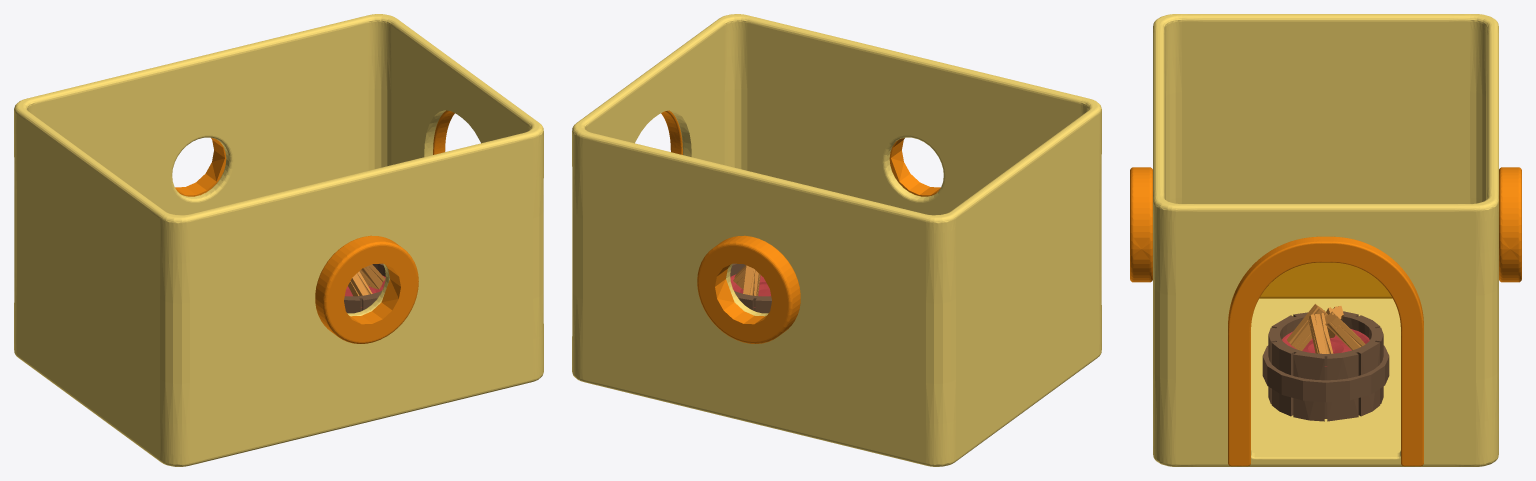
Rendered from Jjimjilbang_wood.fbx.
3 views of the same model, side by side, from view 1: azimuth 30°, elevation 25°; view 2: azimuth 150°, elevation 25°; view 3: azimuth 270°, elevation 25° (orthographic). The views are drawn at different scales.
Visible parts, largest first — view 1: 개체_9, 개체_14, 개체_13, 개체_10, 개체_1; view 2: 개체_9, 개체_13, 개체_14, 개체_10, 개체_1; view 3: 개체_9, 개체_1, 개체_10, 개체_11, 개체_12, 개체_13, 개체_14, 개체_2, 개체_5, 개체_3, 개체_6.
Part boxes in pixels (x1=…): 개체_9: x1=14, y1=14, x2=543, y2=466; 개체_14: x1=315, y1=235, x2=418, y2=343; 개체_13: x1=175, y1=138, x2=226, y2=196; 개체_10: x1=344, y1=263, x2=385, y2=313; 개체_1: x1=433, y1=110, x2=454, y2=154; 개체_9: x1=572, y1=14, x2=1101, y2=466; 개체_13: x1=697, y1=235, x2=800, y2=343; 개체_14: x1=889, y1=138, x2=940, y2=196; 개체_10: x1=730, y1=263, x2=771, y2=313; 개체_1: x1=661, y1=110, x2=682, y2=154; 개체_9: x1=1153, y1=14, x2=1498, y2=466; 개체_1: x1=1228, y1=236, x2=1423, y2=466; 개체_10: x1=1268, y1=310, x2=1383, y2=421; 개체_11: x1=1259, y1=262, x2=1392, y2=298; 개체_12: x1=1262, y1=345, x2=1389, y2=402; 개체_13: x1=1499, y1=167, x2=1521, y2=282; 개체_14: x1=1130, y1=167, x2=1152, y2=282; 개체_2: x1=1308, y1=313, x2=1333, y2=353; 개체_5: x1=1287, y1=304, x2=1327, y2=350; 개체_3: x1=1325, y1=311, x2=1365, y2=350; 개체_6: x1=1282, y1=328, x2=1369, y2=366.
Bounding box in the file's own units: 825 × 500 × 680.
